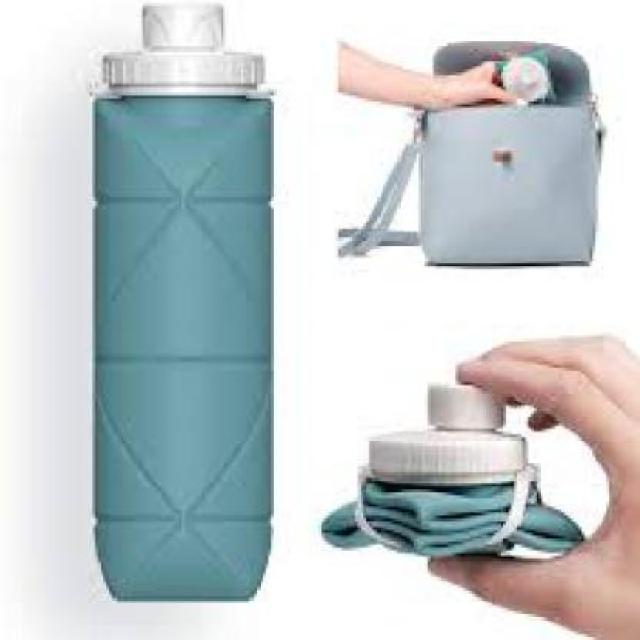Drinking: (75, 11, 294, 634)
